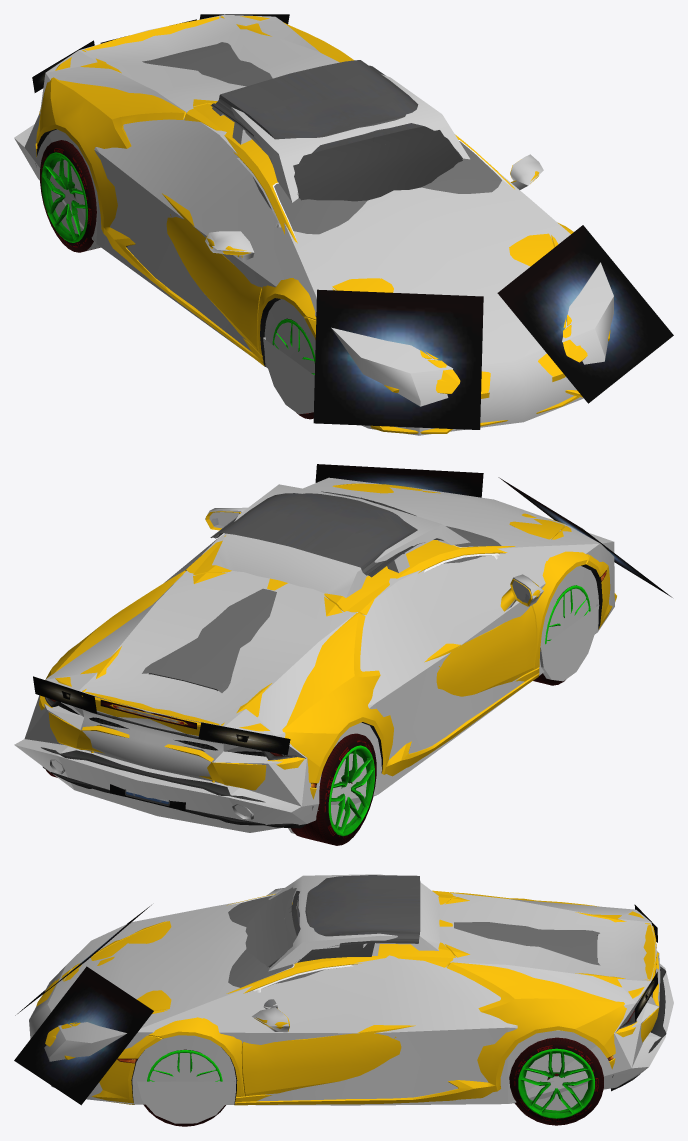
The model's file is P_car-022_Hurraca.fbx.
3 renders of one model, top to bottom at view 1: azimuth 30°, elevation 25°; view 2: azimuth 150°, elevation 25°; view 3: azimuth 270°, elevation 25°, orthographic. The views are drawn at different scales.
Visible parts, largest first — view 1: M_Car-022_ShadowForm_Hurraca_01, M_Car-022_FrontFlares_Hurraca_01, M_Car-022_Body_Hurraca_01, M_Car-Interior_Details_01, M_Car-Interior_Glass_01, M_Car-022_Glass_Hurraca_01, M_Car-Interior_Shadowform_01, M_CarWheel_004_AP_01, M_CarWheel_004_AP_02, M_CarTire_004_AP_02, M_Car-022_BackLights_Hurraca_01 (1); view 2: M_Car-022_ShadowForm_Hurraca_01, M_Car-022_Body_Hurraca_01, M_Car-Interior_Details_01, M_Car-Interior_Shadowform_01, M_Car-022_Glass_Hurraca_01, M_Car-022_Details_Hurraca_01, M_Car-022_FrontFlares_Hurraca_01, M_Car-022_BackLights_Hurraca_01 (1), M_CarWheel_004_AP_01, M_CarWheel_004_AP_02, M_CarTire_004_AP_02, M_Car-022_BackFlaresBreak_Hurraca_01 (+1 smaller); view 3: M_Car-022_ShadowForm_Hurraca_01, M_Car-022_Body_Hurraca_01, M_Car-022_FrontFlares_Hurraca_01, M_Car-Interior_Details_01, M_Car-022_Glass_Hurraca_01, M_Car-Interior_Shadowform_01, M_Car-Interior_Glass_01, M_CarWheel_004_AP_01, M_CarWheel_004_AP_02, M_Car-022_Details_Hurraca_01, M_CarTire_004_AP_02, M_CarTire_004_AP_01 (+1 smaller).
Part boxes in pixels (x1,y1,x2,y2): M_Car-022_ShadowForm_Hurraca_01: (14, 14, 613, 435); M_Car-022_FrontFlares_Hurraca_01: (313, 225, 673, 429); M_Car-022_Body_Hurraca_01: (35, 16, 610, 433); M_Car-Interior_Details_01: (210, 60, 462, 198); M_Car-Interior_Glass_01: (293, 126, 462, 201); M_Car-022_Glass_Hurraca_01: (142, 42, 501, 234); M_Car-Interior_Shadowform_01: (212, 74, 469, 202); M_CarWheel_004_AP_01: (40, 140, 99, 252); M_CarWheel_004_AP_02: (41, 152, 87, 242); M_CarTire_004_AP_02: (48, 187, 85, 240); M_Car-022_BackLights_Hurraca_01 (1): (32, 14, 289, 92); M_Car-022_ShadowForm_Hurraca_01: (14, 477, 614, 833); M_Car-022_Body_Hurraca_01: (39, 483, 616, 799); M_Car-Interior_Details_01: (210, 491, 443, 577); M_Car-Interior_Shadowform_01: (212, 484, 470, 597); M_Car-022_Glass_Hurraca_01: (142, 526, 501, 692); M_Car-022_Details_Hurraca_01: (41, 518, 606, 828); M_Car-022_FrontFlares_Hurraca_01: (315, 464, 672, 597); M_Car-022_BackLights_Hurraca_01 (1): (33, 676, 290, 755); M_CarWheel_004_AP_01: (291, 733, 376, 845); M_CarWheel_004_AP_02: (328, 745, 374, 836); M_CarTire_004_AP_02: (334, 770, 373, 833); M_Car-022_BackFlaresBreak_Hurraca_01: (100, 700, 284, 755); M_Car-022_ShadowForm_Hurraca_01: (29, 888, 673, 1123); M_Car-022_Body_Hurraca_01: (36, 890, 659, 1105); M_Car-022_FrontFlares_Hurraca_01: (14, 905, 153, 1105); M_Car-Interior_Details_01: (264, 875, 420, 1008); M_Car-022_Glass_Hurraca_01: (228, 895, 600, 987); M_Car-Interior_Shadowform_01: (263, 874, 439, 1009); M_Car-Interior_Glass_01: (245, 887, 375, 967); M_CarWheel_004_AP_01: (509, 1037, 603, 1125); M_CarWheel_004_AP_02: (518, 1048, 594, 1118); M_Car-022_Details_Hurraca_01: (117, 935, 666, 1104); M_CarTire_004_AP_02: (530, 1078, 591, 1113); M_CarTire_004_AP_01: (520, 1051, 592, 1084).
Size of the model in its own units: 2.44 by 1.34 by 4.65.
